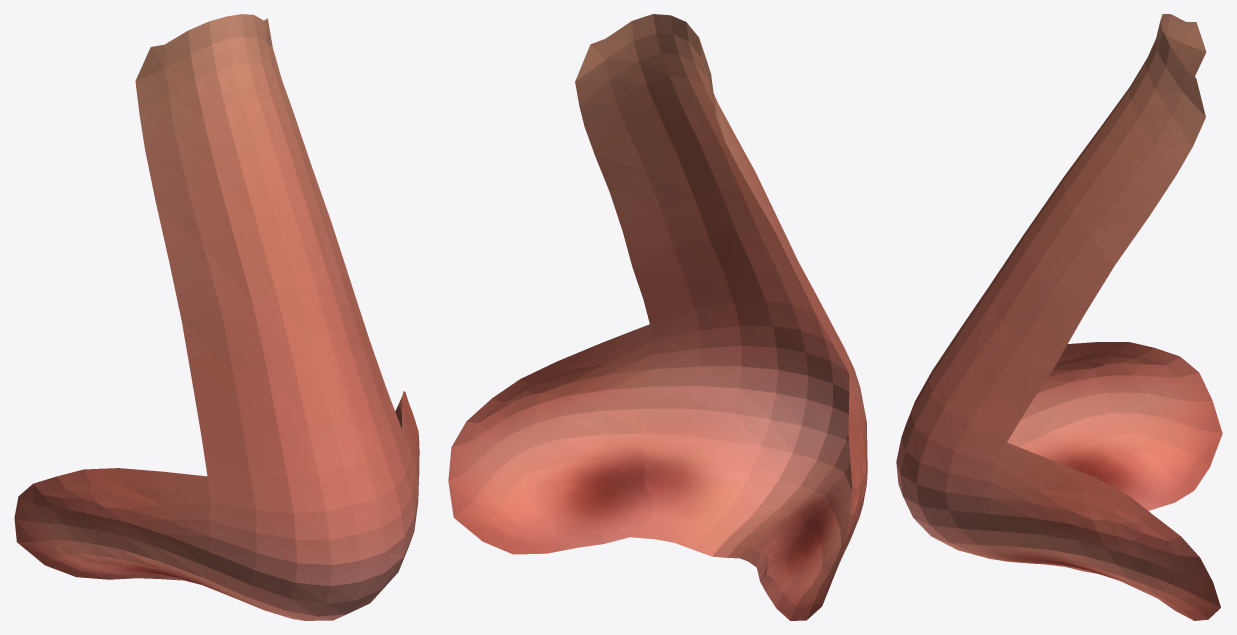
Rendered from euro-nose-sellion-thin.obj.
3 views of the same model, side by side, from view 1: azimuth 30°, elevation 25°; view 2: azimuth 150°, elevation 25°; view 3: azimuth 270°, elevation 25° (orthographic). The views are drawn at different scales.
Parts seen in each view (by area): view 1: euro-nose-sellion-thi.001; view 2: euro-nose-sellion-thi.001; view 3: euro-nose-sellion-thi.001.
Boxes of the visible parts, x1=… form: euro-nose-sellion-thi.001: x1=14, y1=14, x2=419, y2=620; euro-nose-sellion-thi.001: x1=448, y1=14, x2=867, y2=620; euro-nose-sellion-thi.001: x1=896, y1=14, x2=1222, y2=620.
Size of the model in its own units: 0.2217 by 0.3083 by 0.1668.
1 material, 1 textured.
